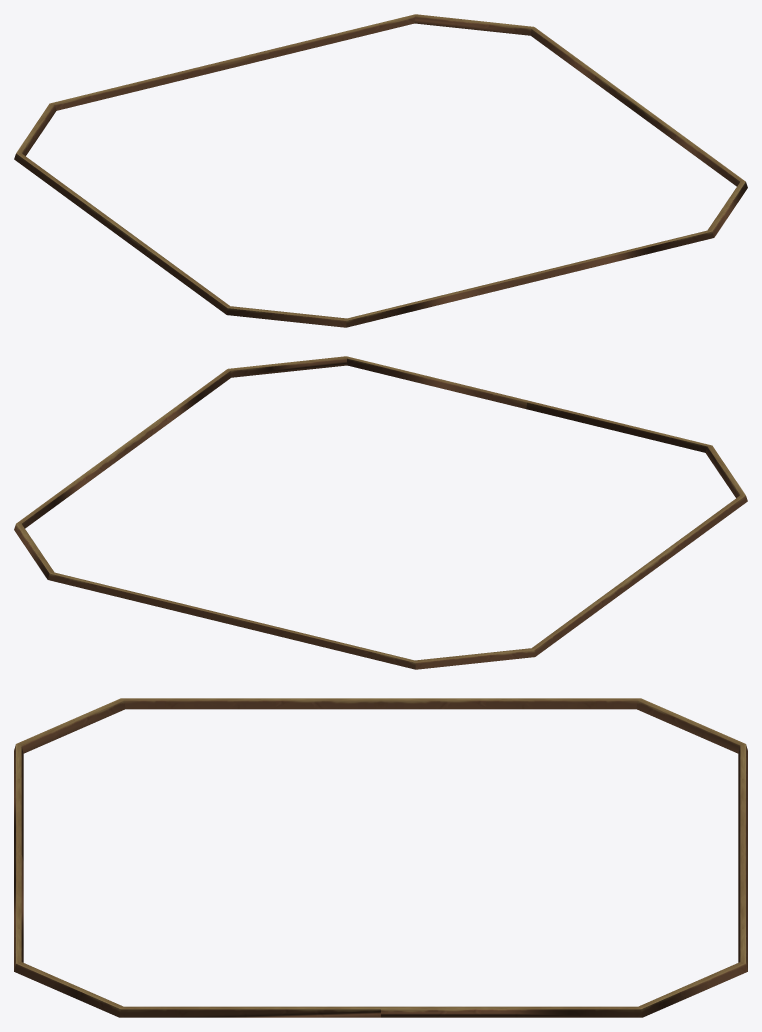
The model's file is bs_pveyabian_03.FBX.
3 renders of one model, top to bottom at view 1: azimuth 30°, elevation 25°; view 2: azimuth 150°, elevation 25°; view 3: azimuth 270°, elevation 25°, orthographic. The views are drawn at different scales.
Parts seen in each view (by area): view 1: bs_pveyabian_03; view 2: bs_pveyabian_03; view 3: bs_pveyabian_03.
Boxes of the visible parts, x1,y1,x2,y2 form: bs_pveyabian_03: [14, 14, 747, 327]; bs_pveyabian_03: [14, 356, 747, 669]; bs_pveyabian_03: [14, 698, 747, 1017].
Bounding box in the file's own units: 2831 × 31.76 × 2807.
